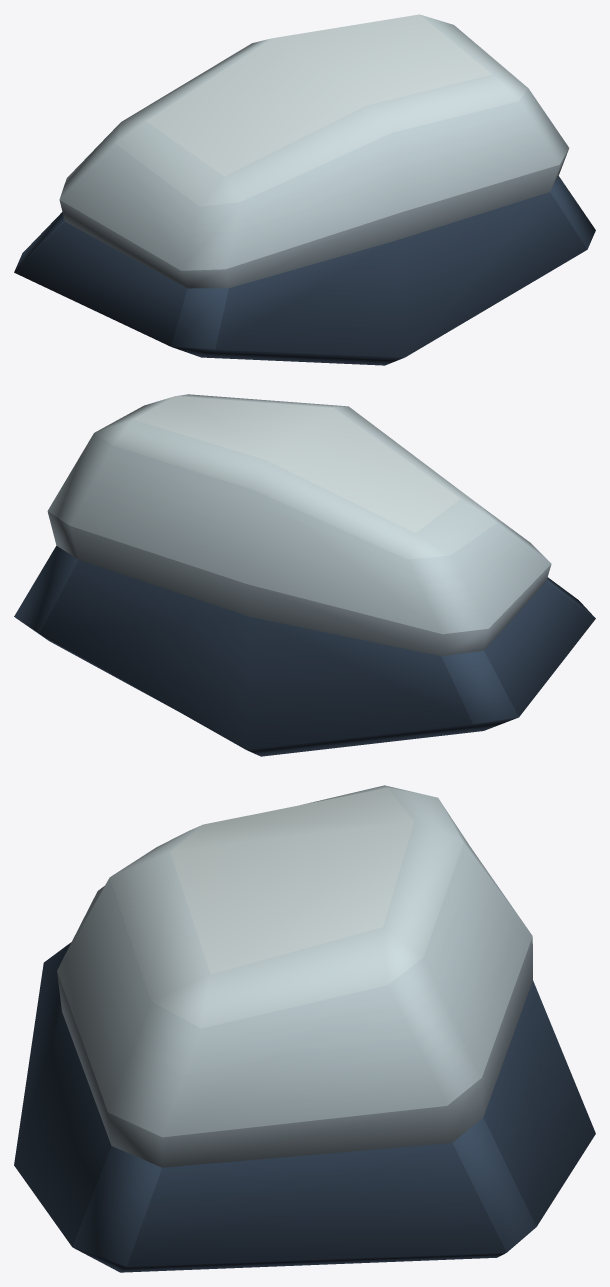
File: rock_snow_023.fbx
The picture shows the model from 3 angles, top to bottom: view 1: azimuth 30°, elevation 25°; view 2: azimuth 150°, elevation 25°; view 3: azimuth 270°, elevation 25°; orthographic projection. The views are drawn at different scales.
Parts seen in each view (by area): view 1: rock_snow_023; view 2: rock_snow_023; view 3: rock_snow_023.
Boxes of the visible parts, <box> form: rock_snow_023: <box>14,14,595,365</box>; rock_snow_023: <box>14,394,595,756</box>; rock_snow_023: <box>14,785,595,1272</box>.
Bounding box in the file's own units: 253 × 122 × 174.
